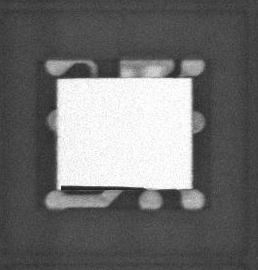DIE_BROKEN: (60, 183, 146, 191)
